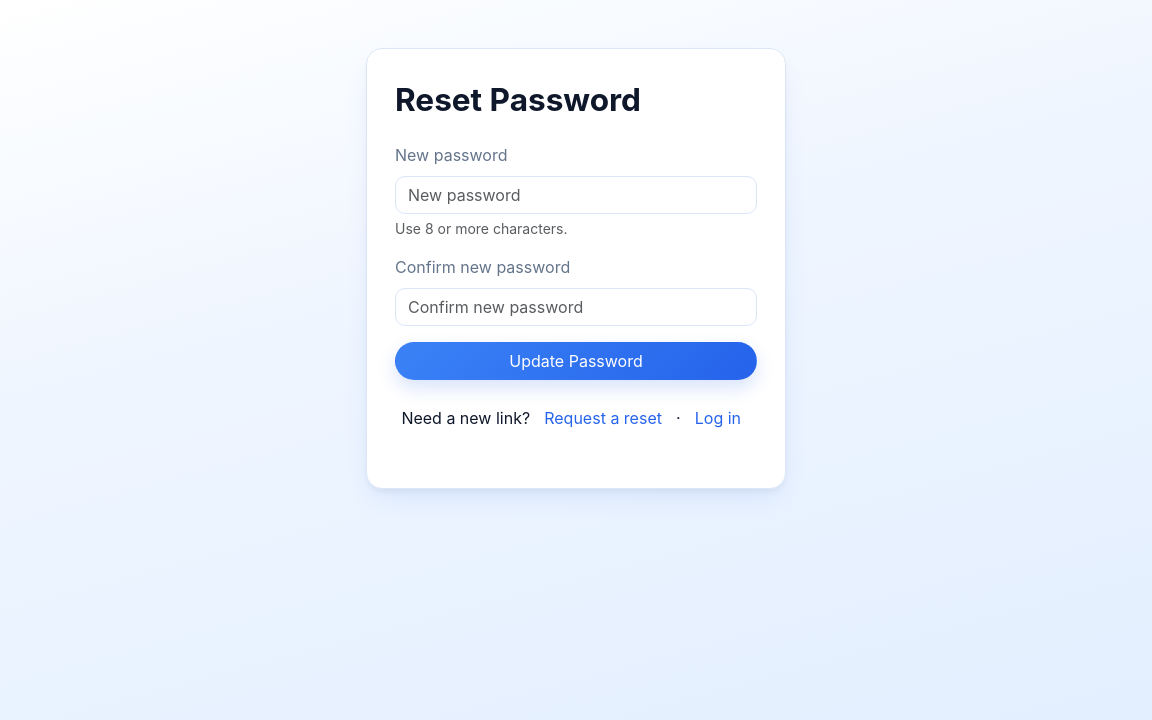
Test case: ResetPassword Page › requires the confirmation to match
This screenshot has width=1152, height=720.
Type "longenough1" into the password field labelled "New password" at [576, 195], box [395,176,757,214]
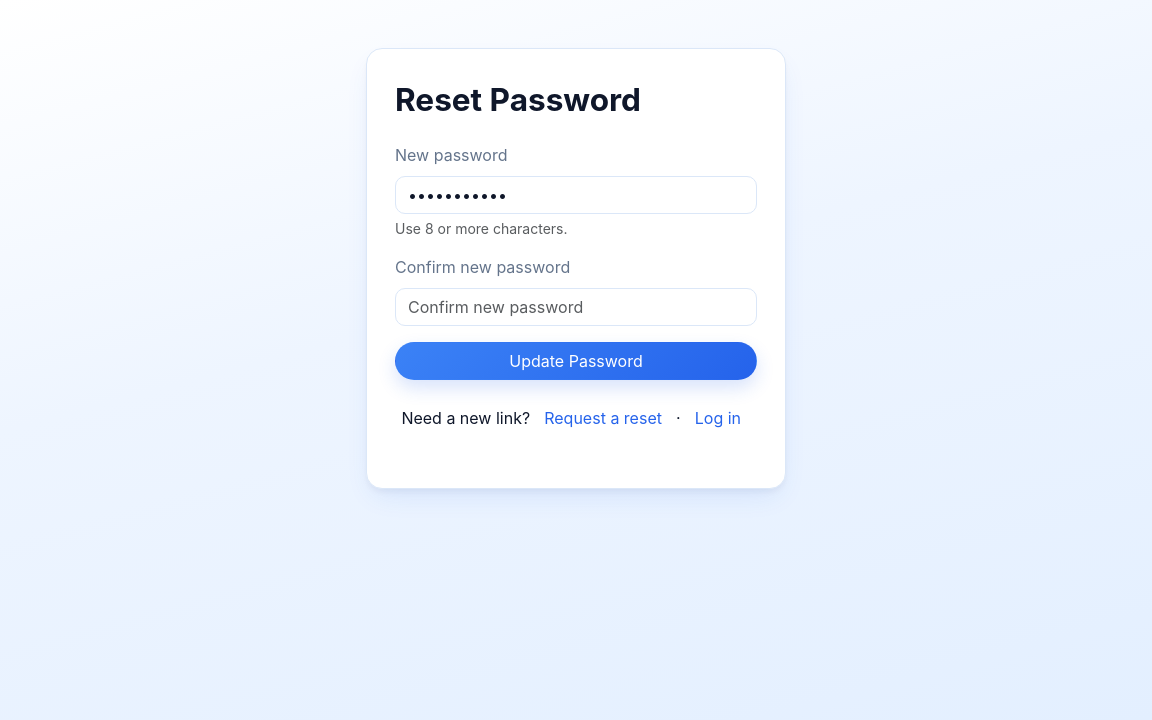
Type "longenough2" into the password field labelled "Confirm new password" at [576, 307], box [395,288,757,326]
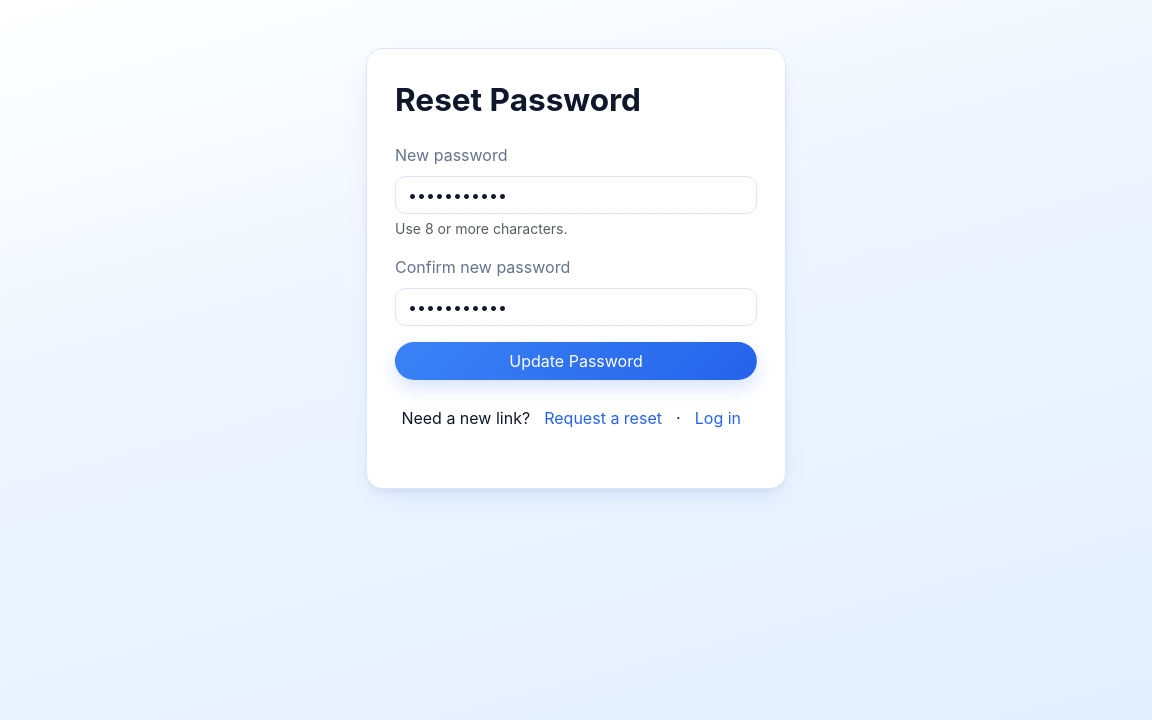
Click the button "Update Password" at [576, 361], box [395,342,757,380]
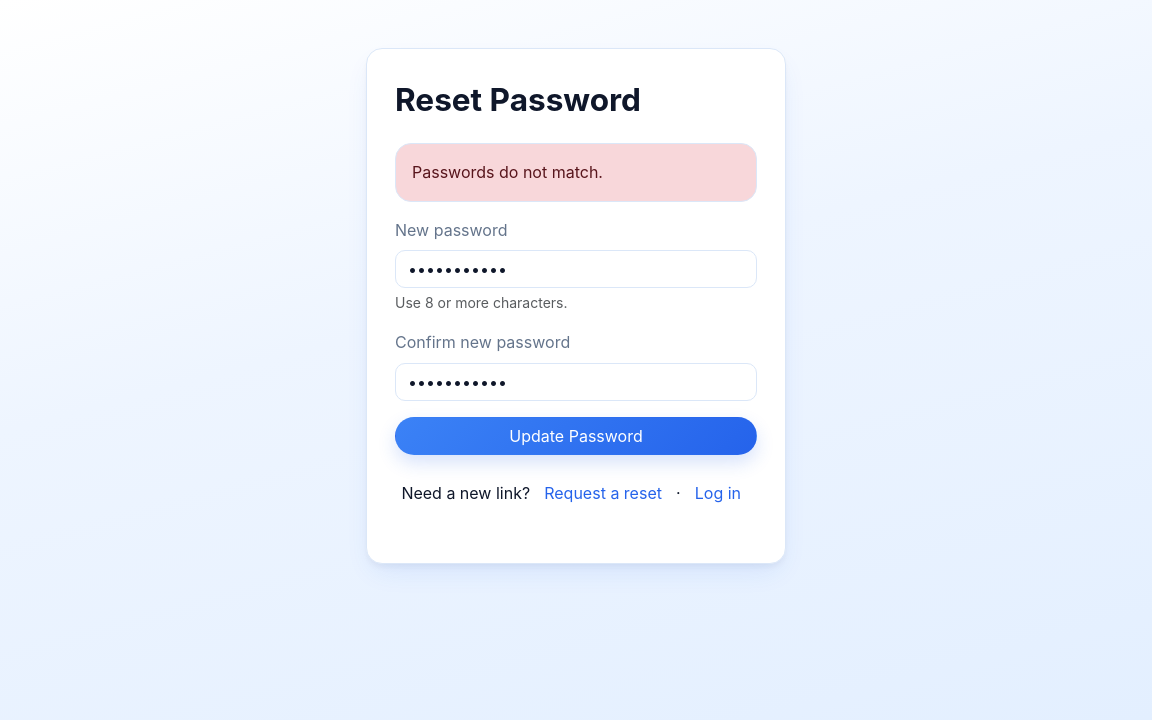
Expected: the text "Passwords do not match." is shown, [395,143,757,202]
